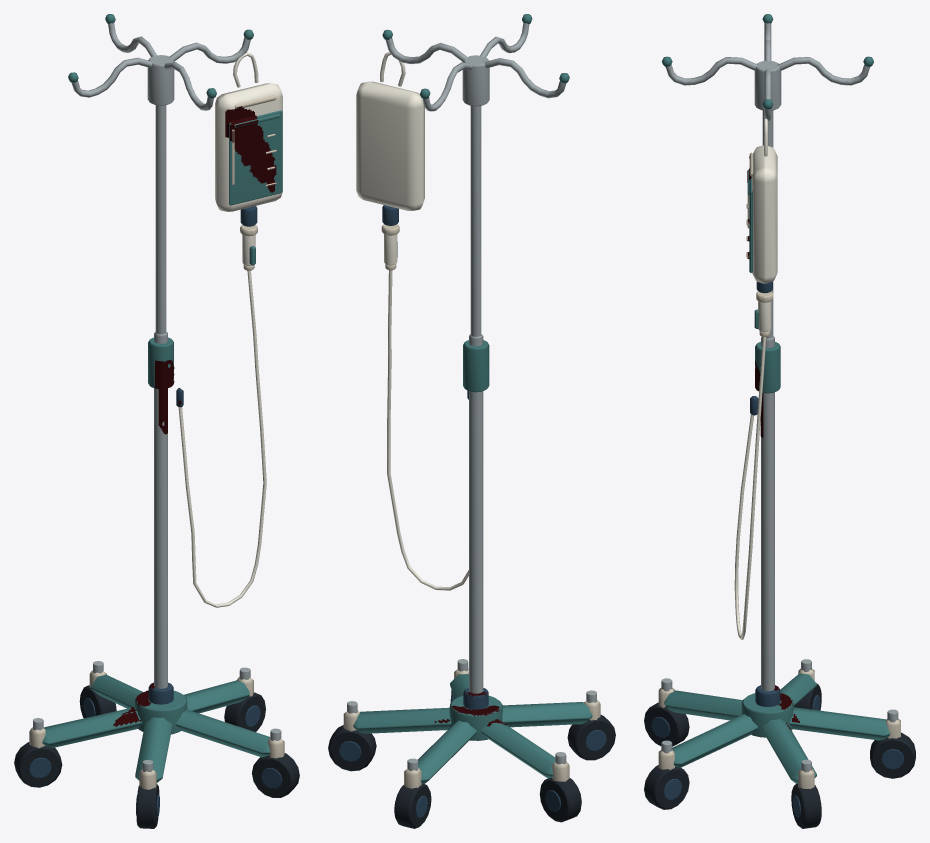
Rendered from iv_stand.glb.
3 views of the same model, side by side, from view 1: azimuth 30°, elevation 25°; view 2: azimuth 150°, elevation 25°; view 3: azimuth 270°, elevation 25° (orthographic).
Visible parts, largest first — view 1: iv_stand_Outbreak_Static; view 2: iv_stand_Outbreak_Static; view 3: iv_stand_Outbreak_Static.
Boxes of the visible parts, x1,y1,x2,y2 form: iv_stand_Outbreak_Static: [14, 14, 299, 828]; iv_stand_Outbreak_Static: [328, 14, 615, 828]; iv_stand_Outbreak_Static: [644, 14, 915, 828].
Size of the model in its own units: 0.732 by 2.03 by 0.6962.
